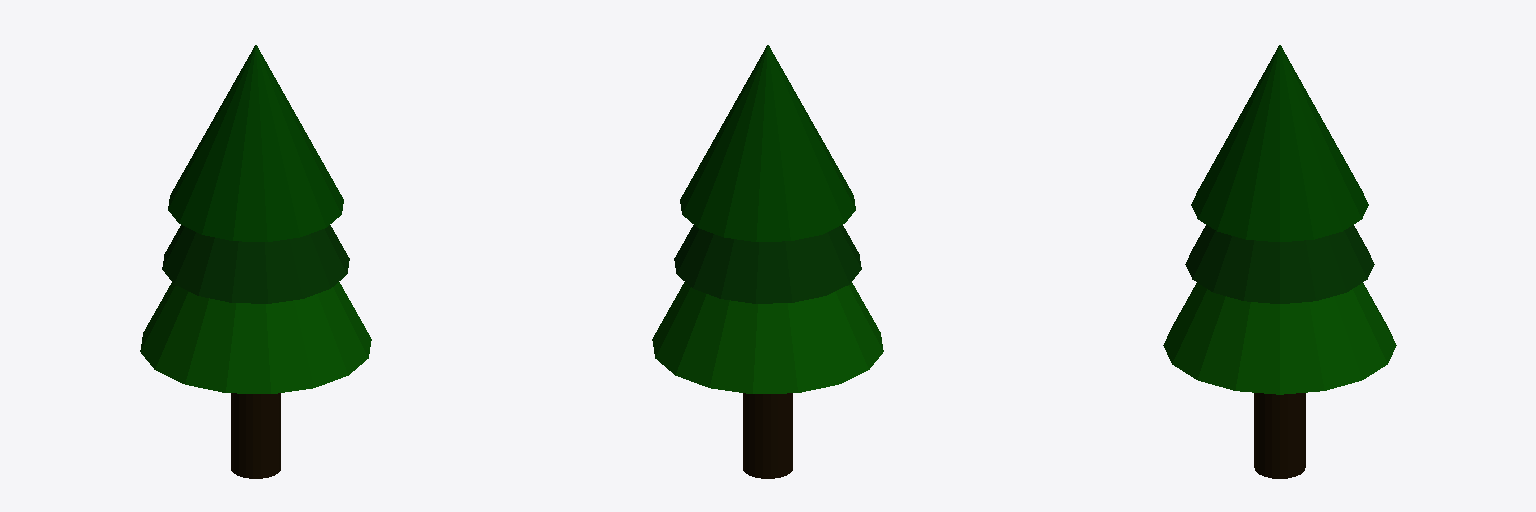
The model's file is tree.obj.
The picture shows the model from 3 angles: view 1: azimuth 30°, elevation 25°; view 2: azimuth 150°, elevation 25°; view 3: azimuth 270°, elevation 25°; orthographic projection.
Visible parts, largest first — view 1: Cône.002, Cône.000, Cône.001, Cylindre; view 2: Cône.002, Cône.000, Cône.001, Cylindre; view 3: Cône.002, Cône.000, Cône.001, Cylindre.
Part boxes in pixels (x1,y1,x2,y2): Cône.002: (168,45,343,241); Cône.000: (140,282,371,393); Cône.001: (162,225,349,303); Cylindre: (231,393,280,478); Cône.002: (680,45,855,241); Cône.000: (652,282,883,393); Cône.001: (674,225,861,303); Cylindre: (743,393,792,478); Cône.002: (1191,45,1368,241); Cône.000: (1163,283,1396,394); Cône.001: (1185,225,1374,303); Cylindre: (1254,393,1305,478).
Size of the model in its own units: 3.37 by 6.75 by 3.37.